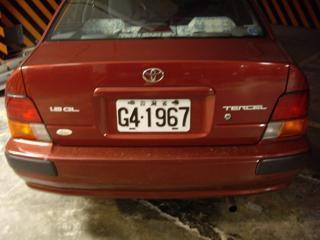plate: (113, 96, 193, 132)
